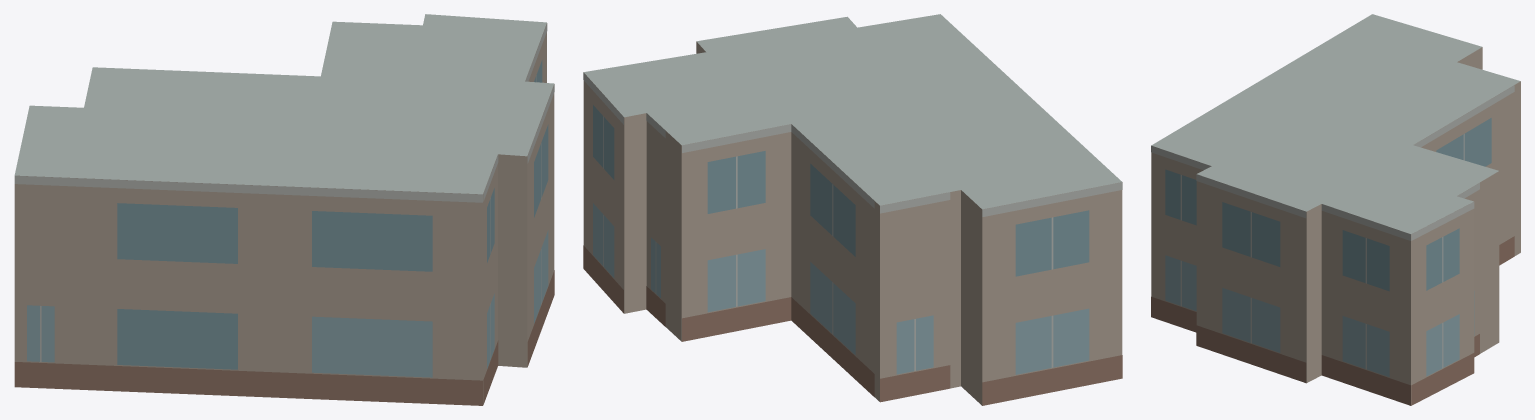
File: survey-upis-32469772.glb
The picture shows the model from 3 angles, left to right: view 1: azimuth 30°, elevation 25°; view 2: azimuth 150°, elevation 25°; view 3: azimuth 270°, elevation 25°; orthographic projection. The views are drawn at different scales.
Parts seen in each view (by area): view 1: survey-upis-32469772.tmp; view 2: survey-upis-32469772.tmp; view 3: survey-upis-32469772.tmp.
Boxes of the visible parts, x1,y1,x2,y2 form: survey-upis-32469772.tmp: [14, 14, 554, 405]; survey-upis-32469772.tmp: [583, 14, 1122, 405]; survey-upis-32469772.tmp: [1151, 14, 1520, 405].
Bounding box in the file's own units: 16.8 × 6.1 × 11.92.
